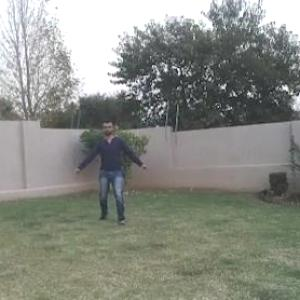land: (69, 105, 150, 234)
